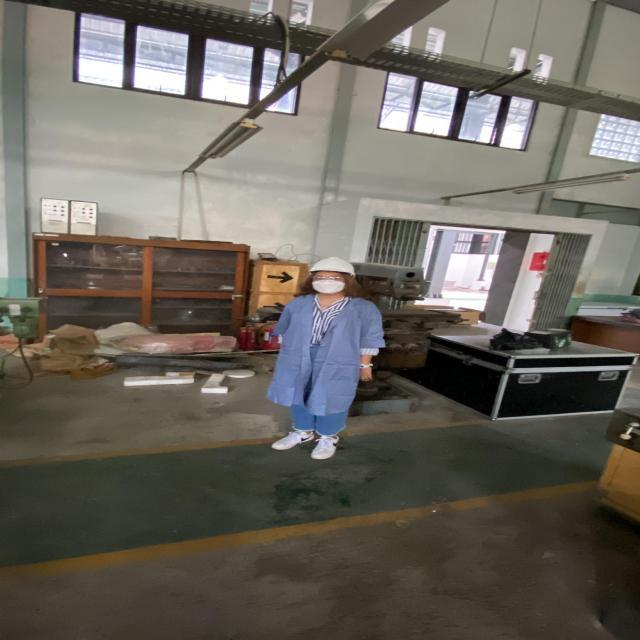boots: (267, 428, 319, 453), (307, 430, 347, 462)
helmet: (307, 255, 359, 278)
